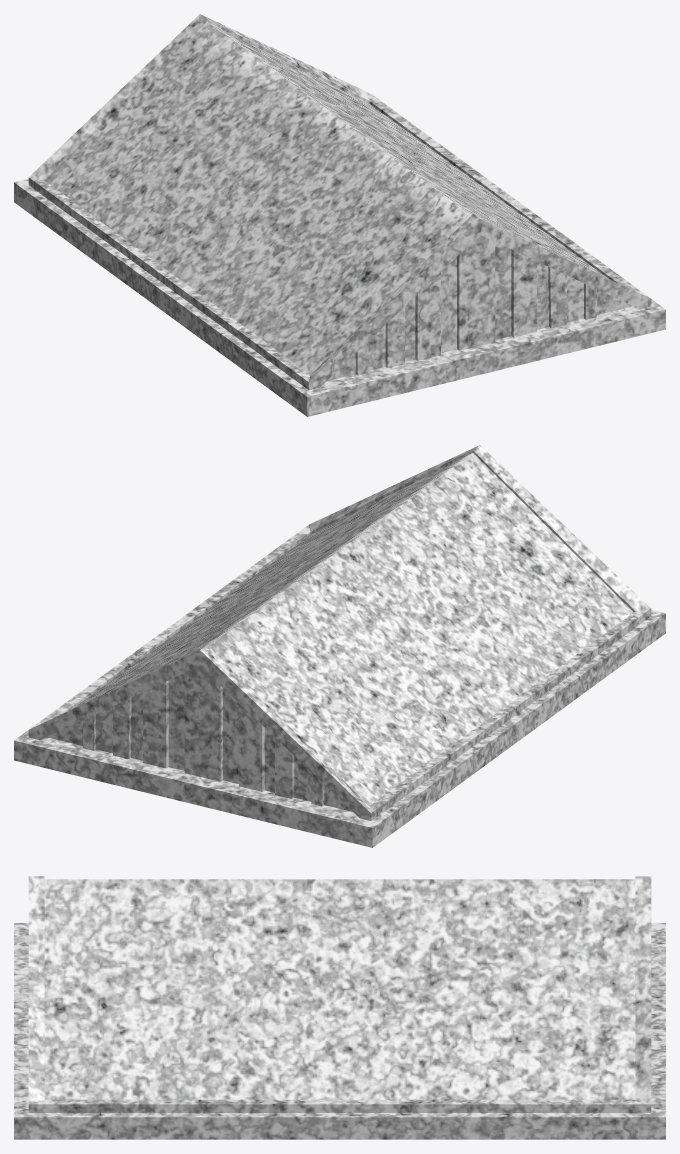
File: Roof.fbx
3 views of the same model, one above another, from view 1: azimuth 30°, elevation 25°; view 2: azimuth 150°, elevation 25°; view 3: azimuth 270°, elevation 25° (orthographic). The views are drawn at different scales.
Parts seen in each view (by area): view 1: pCube1; view 2: pCube1; view 3: pCube1.
Part boxes in pixels (<box>): pCube1: <box>14,14,665,416</box>; pCube1: <box>14,445,665,847</box>; pCube1: <box>14,876,665,1139</box>.
Bounding box in the file's own units: 19.8 × 7.88 × 28.05.
1 material, 1 textured.
